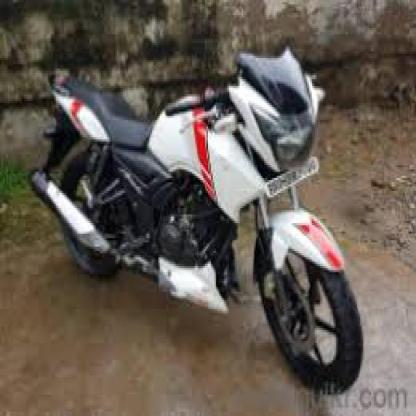bike: (30, 40, 364, 392)
